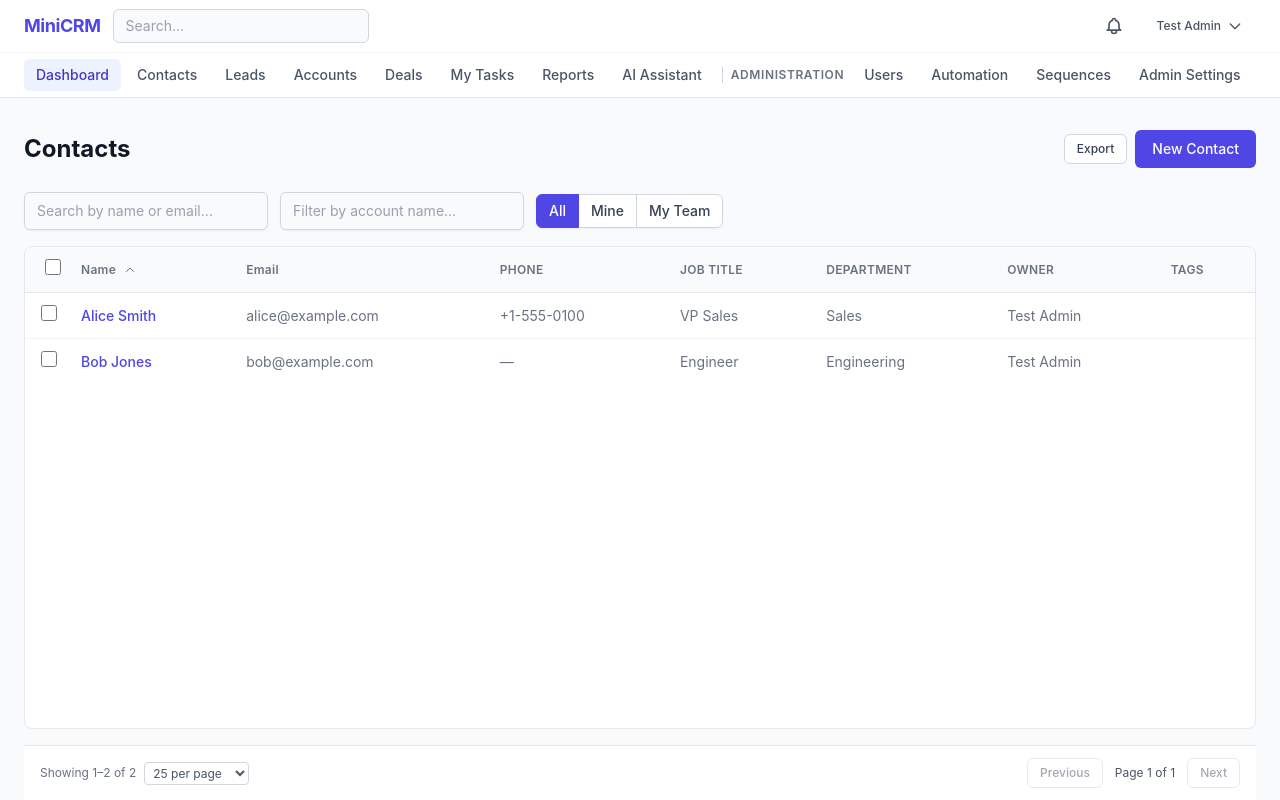
Scenario: ContactsPage › shows the create form when New Contact is clicked
Click the button with test id "new-contact-button".
click(1196, 149)  # box x1=1135 y1=130 x2=1256 y2=168
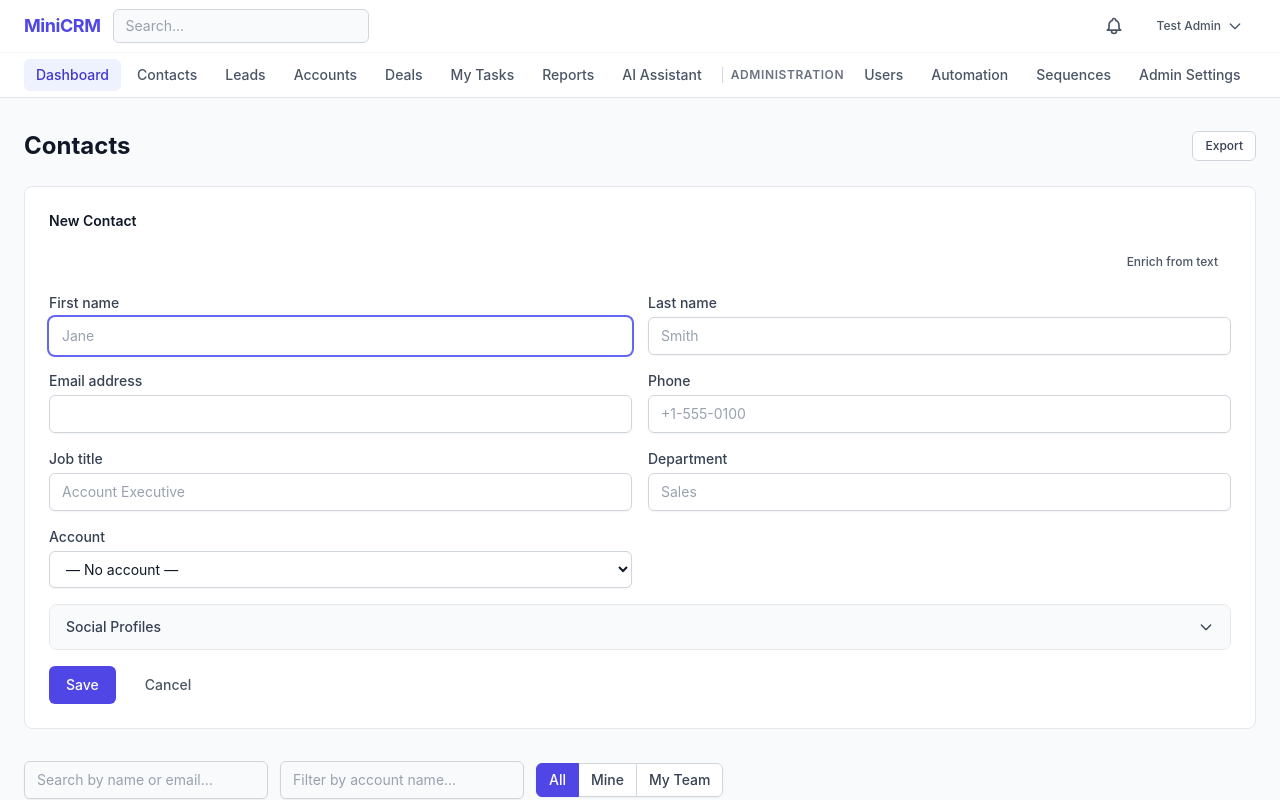
Expected: the form with test id "contact-form" is shown, x1=49 y1=247 x2=1231 y2=704
